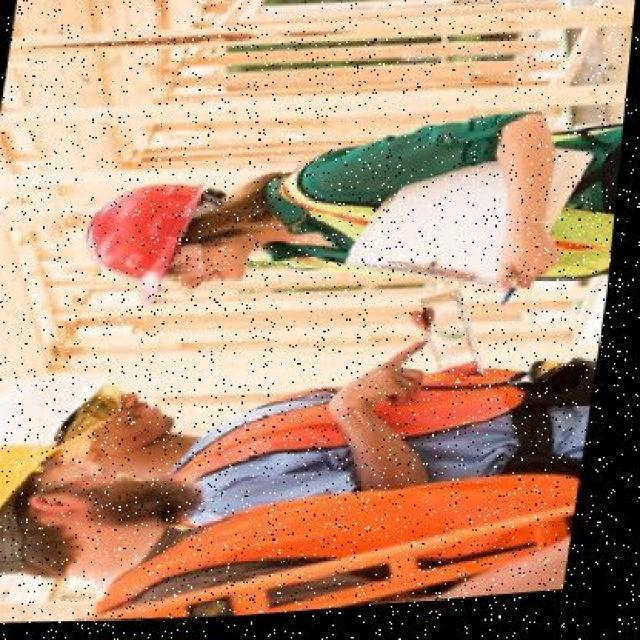helmet: (82, 166, 214, 300), (0, 354, 136, 464)
vest: (125, 455, 577, 627), (277, 94, 627, 297), (168, 340, 529, 498)
